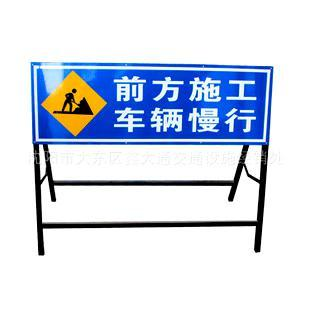sign: (31, 62, 268, 146)
